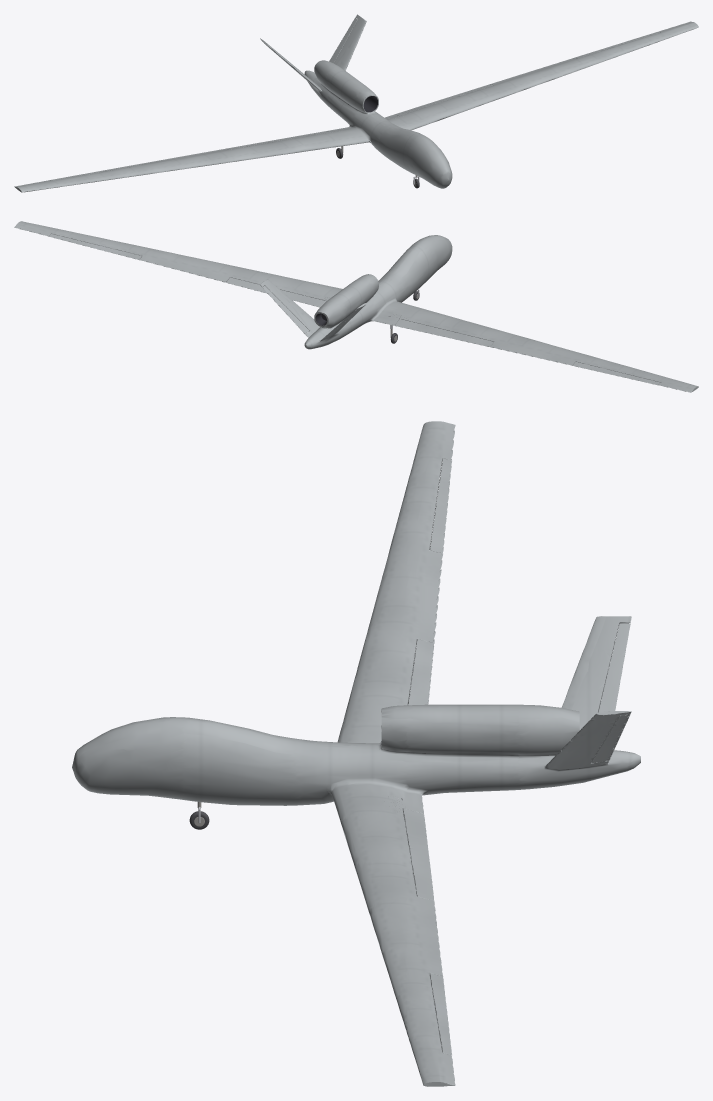
3 views of the same model, one above another, from view 1: azimuth 30°, elevation 25°; view 2: azimuth 150°, elevation 25°; view 3: azimuth 270°, elevation 25° (orthographic). The views are drawn at different scales.
Visible parts, largest first — view 1: airframe, fsim:flaps; view 2: airframe, fsim:flaps (×2), fsim:aileron (×2), fsim:elevator+rudder:1@-25,25; view 3: airframe, fsim:flaps (×2), fsim:elevator+rudder:-1@-25,25, fsim:aileron.
Boxes of the visible parts, x1=… form: airframe: x1=14, y1=14, x2=698, y2=192; fsim:flaps: x1=394, y1=84, x2=493, y2=115; airframe: x1=14, y1=221, x2=698, y2=392; fsim:flaps (×2): x1=226, y1=277, x2=493, y2=346; fsim:aileron (×2): x1=49, y1=234, x2=660, y2=385; fsim:elevator+rudder:1@-25,25: x1=262, y1=286, x2=309, y2=333; airframe: x1=72, y1=421, x2=640, y2=1086; fsim:flaps (×2): x1=403, y1=639, x2=434, y2=900; fsim:elevator+rudder:-1@-25,25: x1=598, y1=623, x2=630, y2=712; fsim:aileron: x1=430, y1=458, x2=451, y2=553.
Size of the model in its own units: 39.9 by 4.67 by 14.51.
Materials: 5 (1 with a texture image).
